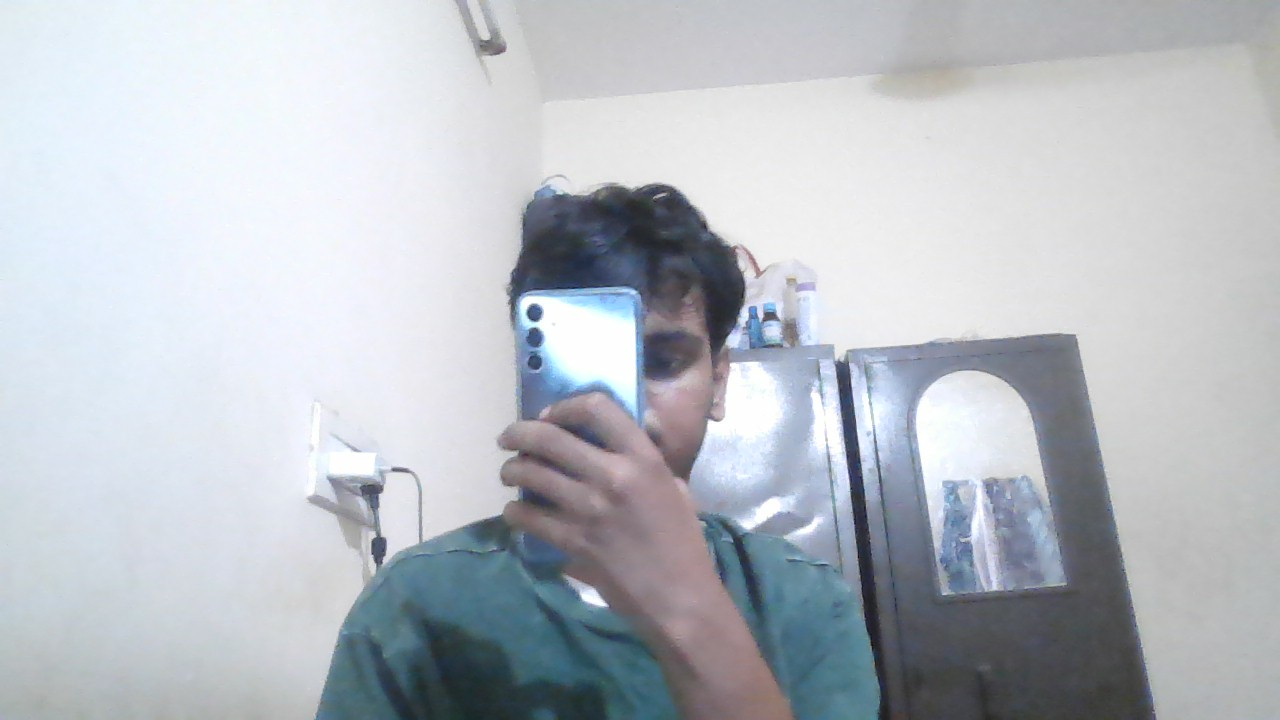phone: (511, 285, 646, 414)
